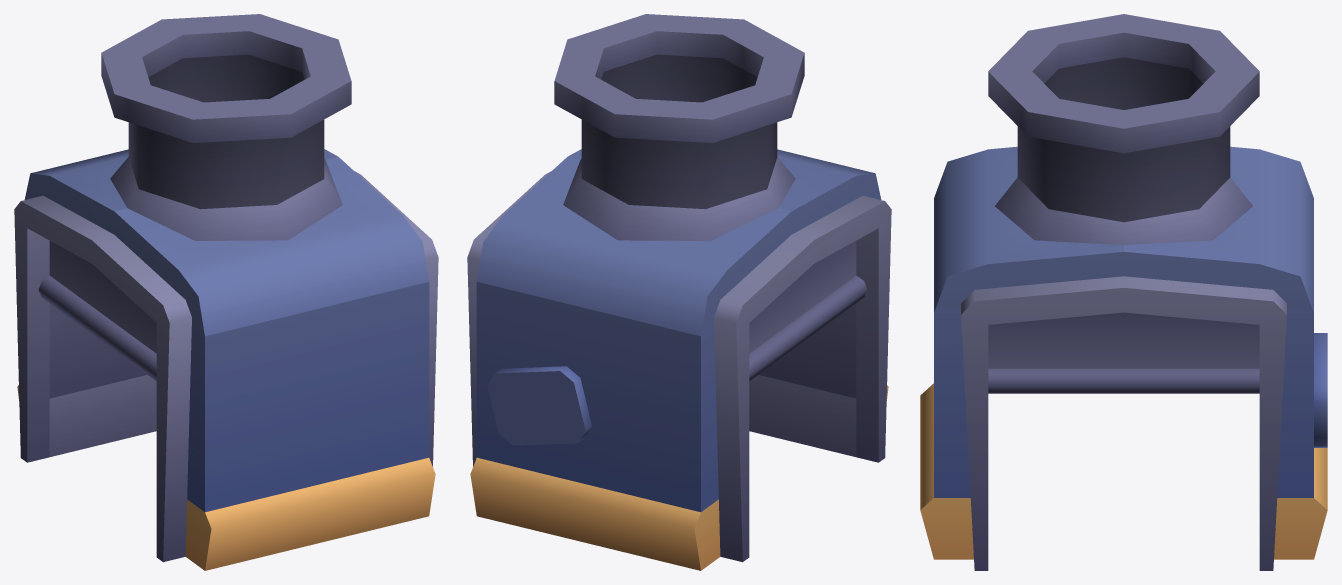
The model's file is machine-connection-pipe.glb.
3 renders of one model, left to right at view 1: azimuth 30°, elevation 25°; view 2: azimuth 150°, elevation 25°; view 3: azimuth 270°, elevation 25°, orthographic. The views are drawn at different scales.
Visible parts, largest first — view 1: machine-connection-pipe; view 2: machine-connection-pipe; view 3: machine-connection-pipe.
Boxes of the visible parts, x1,y1,x2,y2 form: machine-connection-pipe: (14, 14, 438, 570); machine-connection-pipe: (467, 14, 891, 570); machine-connection-pipe: (920, 14, 1327, 570).
Bounding box in the file's own units: 1.2 × 1.75 × 1.5.
Materials: 1 (1 with a texture image).
